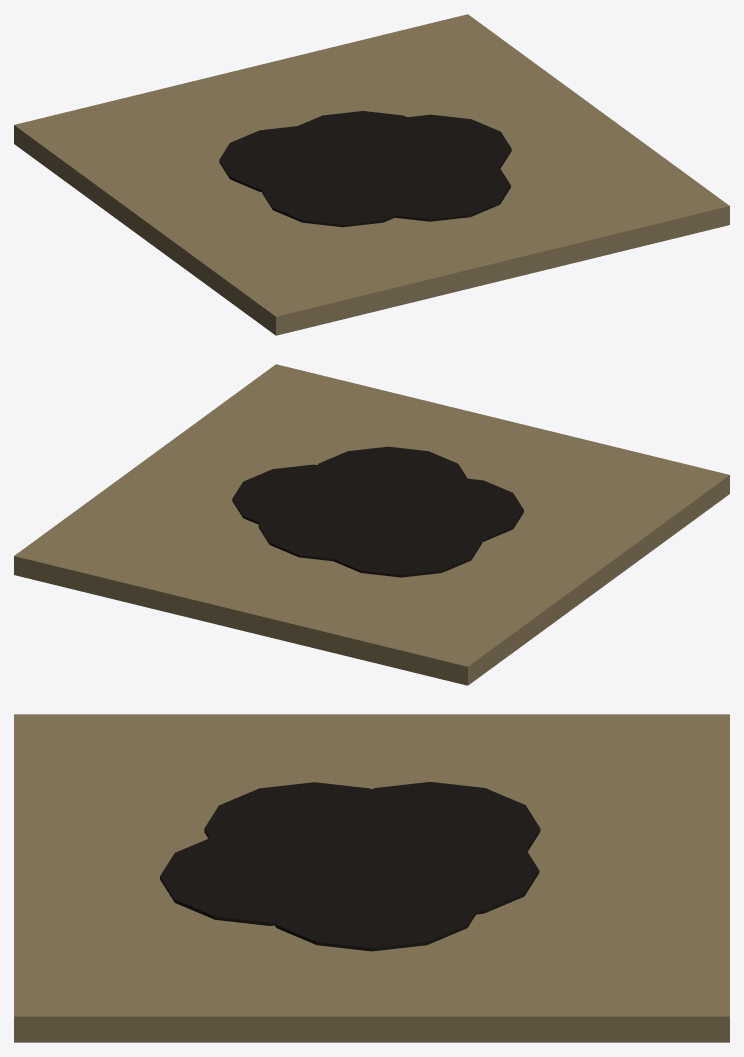
File: Deposit_Oil_Mining.fbx
The picture shows the model from 3 angles, top to bottom: view 1: azimuth 30°, elevation 25°; view 2: azimuth 150°, elevation 25°; view 3: azimuth 270°, elevation 25°; orthographic projection. The views are drawn at different scales.
Visible parts, largest first — view 1: Deposit_Oil_Mining_Body; view 2: Deposit_Oil_Mining_Body; view 3: Deposit_Oil_Mining_Body.
Boxes of the visible parts, bbox=[...] form: Deposit_Oil_Mining_Body: bbox=[14, 14, 729, 335]; Deposit_Oil_Mining_Body: bbox=[14, 364, 729, 685]; Deposit_Oil_Mining_Body: bbox=[14, 714, 729, 1042].
Size of the model in its own units: 1 by 0.045 by 1.
